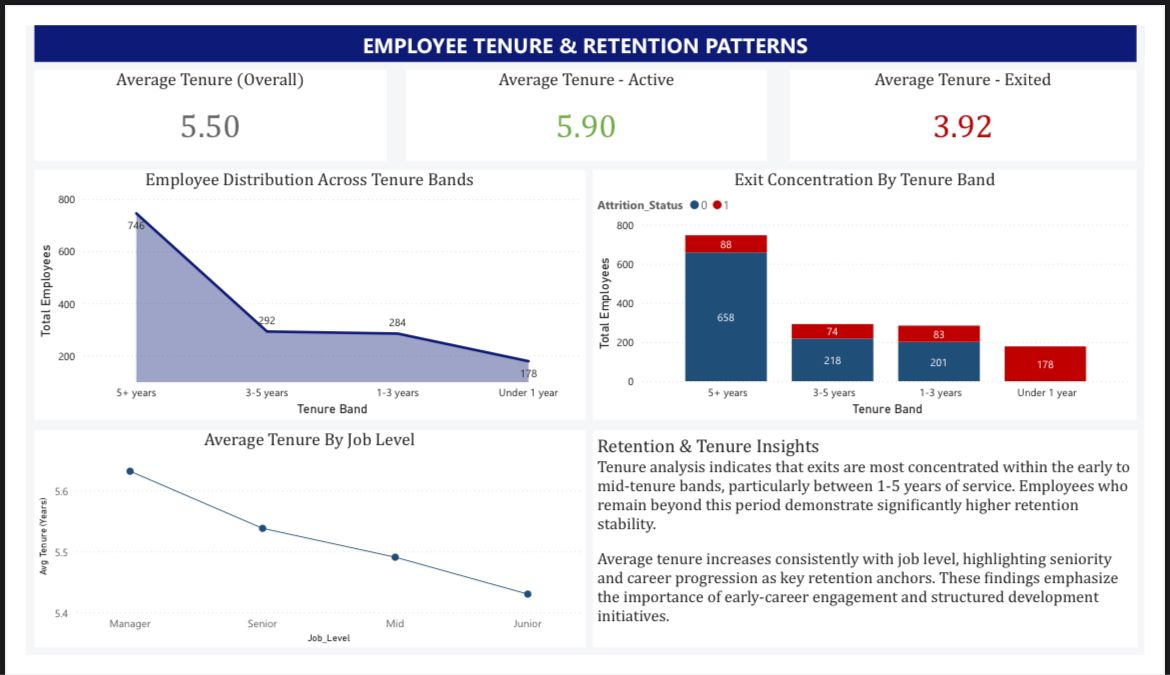

This screenshot's page, from the dashboard's own definition file:
{"tool":"powerbi","page":{"name":"Retention & Tenure","canvas":[1280,720],"ordinal":2},"visuals":[{"type":"textbox","box":[9.5,0,1261.9,41.7],"z":0},{"type":"card","title":"Average Tenure (Overall)","fields":{"Values":["HR_Analytics_Attrition_Retention.Avg Tenure (Years)"]},"box":[9.5,51.2,403.6,103.6],"z":1},{"type":"card","title":"Average Tenure - Active","fields":{"Values":["HR_Analytics_Attrition_Retention.Avg Tenure Active"]},"box":[434.5,51.2,413.1,103.6],"z":2},{"type":"card","title":"Average Tenure - Exited","fields":{"Values":["HR_Analytics_Attrition_Retention.Avg Tenure - Exited"]},"box":[873.8,51.2,397.6,103.6],"z":3},{"type":"areaChart","title":"Employee Distribution Across Tenure Bands","fields":{"Category":["HR_Analytics_Attrition_Retention.Tenure Band"],"Y":["HR_Analytics_Attrition_Retention.Total Employees"]},"box":[9.5,165.5,631,285.7],"z":4},{"type":"columnChart","title":"Exit Concentration By Tenure Band","fields":{"Category":["HR_Analytics_Attrition_Retention.Tenure Band"],"Y":["HR_Analytics_Attrition_Retention.Total Employees"],"Series":["HR_Analytics_Attrition_Retention.Attrition_Status"]},"box":[648.8,165.5,622.6,285.7],"z":5},{"type":"lineChart","title":"Average Tenure By Job Level","fields":{"Category":["HR_Analytics_Attrition_Retention.Job_Level"],"Y":["HR_Analytics_Attrition_Retention.Avg Tenure (Years)"]},"box":[9.5,463.1,631,247.6],"z":6},{"type":"textbox","box":[649,463,623,248],"z":7}]}

Visuals, with their boxes in screenshot pixels (x1, y1, x2, y2), scaled from the page's 1280x720 canvas onto the 1170x675 screenshot:
textbox: locate(9, 0, 1162, 39)
"Average Tenure (Overall)" card: locate(9, 48, 378, 145)
"Average Tenure - Active" card: locate(397, 48, 775, 145)
"Average Tenure - Exited" card: locate(799, 48, 1162, 145)
"Employee Distribution Across Tenure Bands" areaChart: locate(9, 155, 585, 423)
"Exit Concentration By Tenure Band" columnChart: locate(593, 155, 1162, 423)
"Average Tenure By Job Level" lineChart: locate(9, 434, 585, 666)
textbox: locate(593, 434, 1163, 667)
